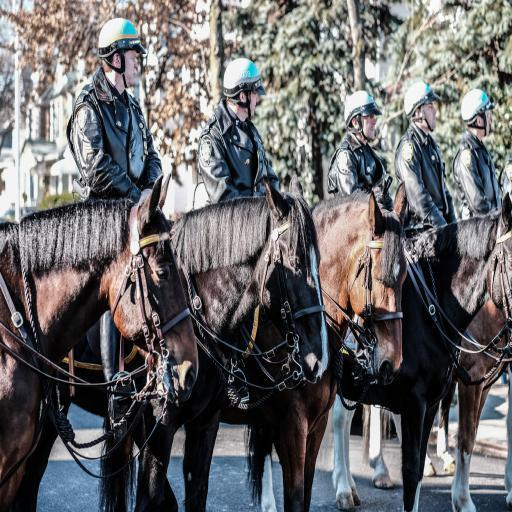horse: (0, 172, 512, 510)
